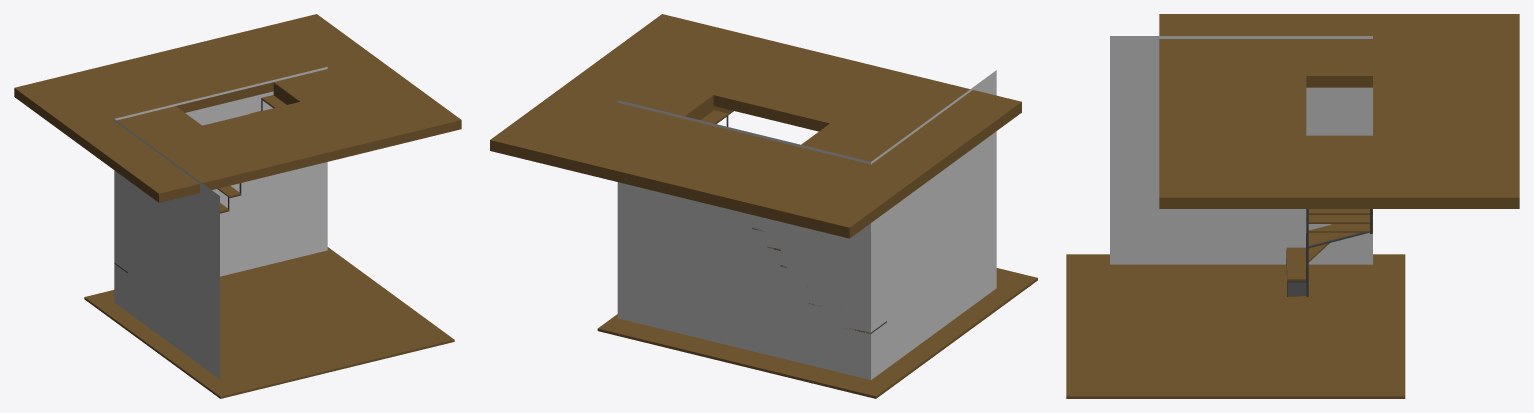
The model's file is stair.glb.
The picture shows the model from 3 angles, left to right: view 1: azimuth 30°, elevation 25°; view 2: azimuth 150°, elevation 25°; view 3: azimuth 270°, elevation 25°; orthographic projection. The views are drawn at different scales.
Parts seen in each view (by area): view 1: Rectangle010, Line008, Rectangle009, Object018_07 - Default_0; view 2: Rectangle010, Line008, Rectangle009; view 3: Rectangle010, Rectangle009, Line008, Object018_07 - Default_0, Object018_02 - Default_0.
Boxes of the visible parts, x1,y1,x2,y2 form: Rectangle010: (14, 14, 461, 202); Line008: (114, 67, 327, 379); Rectangle009: (84, 247, 454, 398); Object018_07 - Default_0: (217, 95, 286, 212); Rectangle010: (490, 14, 1021, 238); Line008: (617, 70, 996, 379); Rectangle009: (597, 268, 1037, 398); Rectangle010: (1159, 14, 1519, 208); Rectangle009: (1066, 254, 1405, 398); Line008: (1110, 36, 1372, 264); Object018_07 - Default_0: (1286, 209, 1372, 296); Object018_02 - Default_0: (1286, 209, 1372, 296).
Size of the model in its own units: 517 by 304 by 540.
